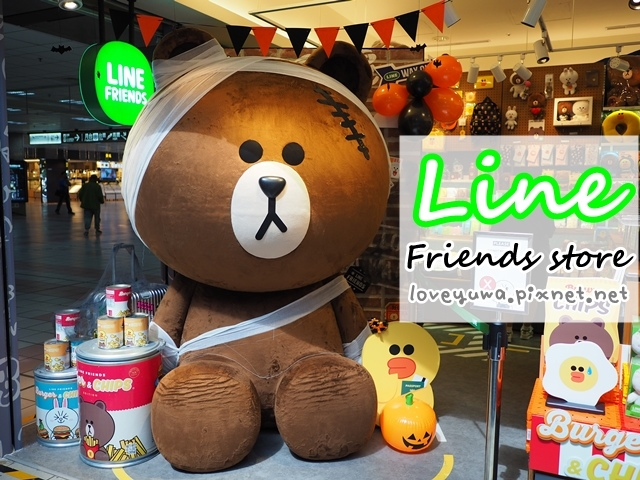line_brown: (132, 65, 403, 301)
